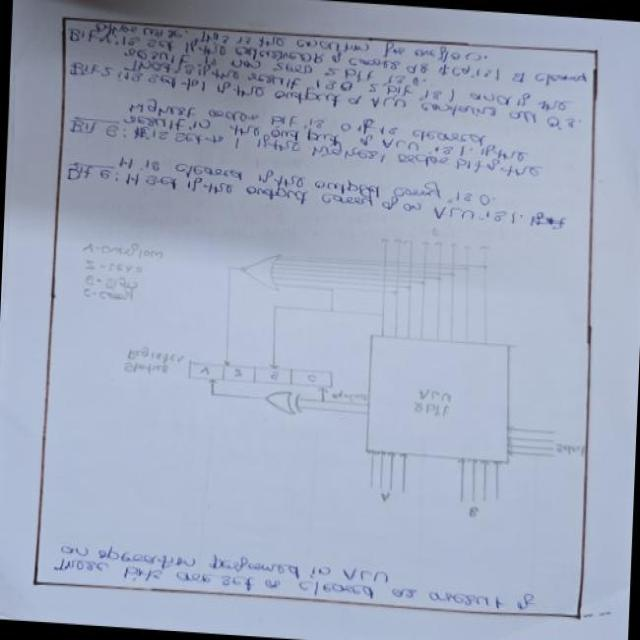Figure Detection - v3 Dataset Version2: (59, 197, 598, 542)
